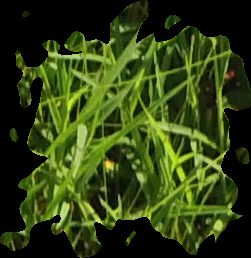grass: (1, 1, 250, 256)
